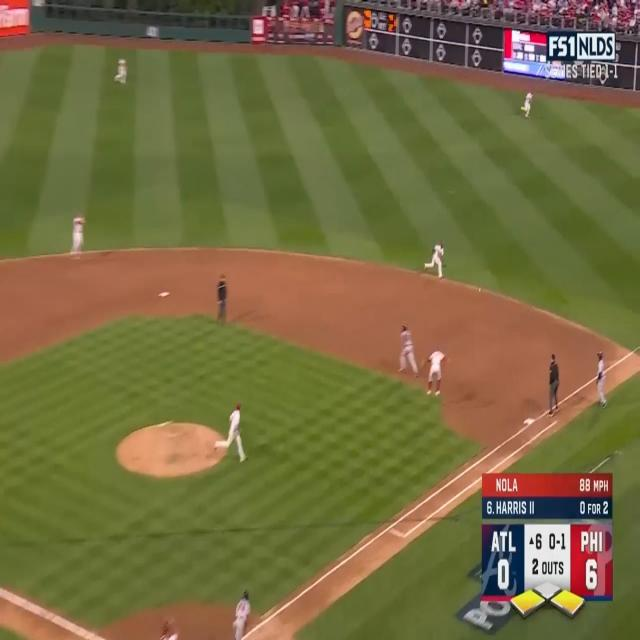baseball: (479, 288, 481, 292)
